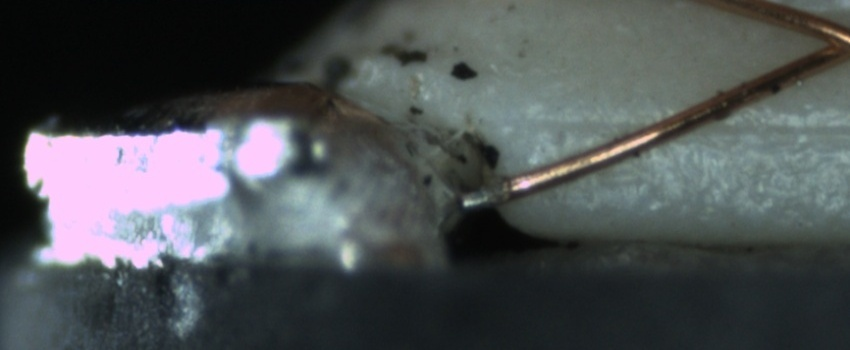CL: (795, 13, 850, 72)
DL: (527, 94, 850, 157)
TS: (457, 182, 503, 210)
